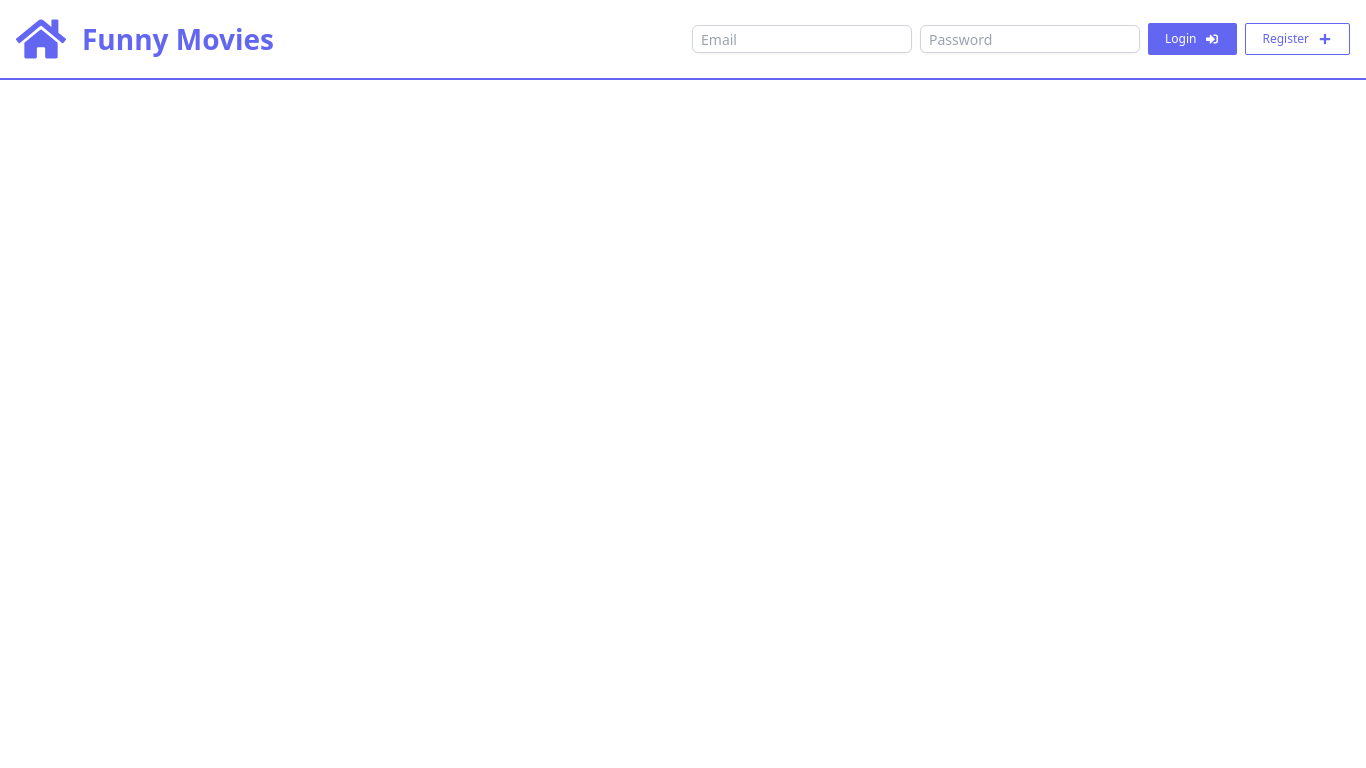
Test: Login › should open create account modal when register button is clicked
Click the button "Register" at (1298, 39), box x1=1246 y1=23 x2=1350 y2=55
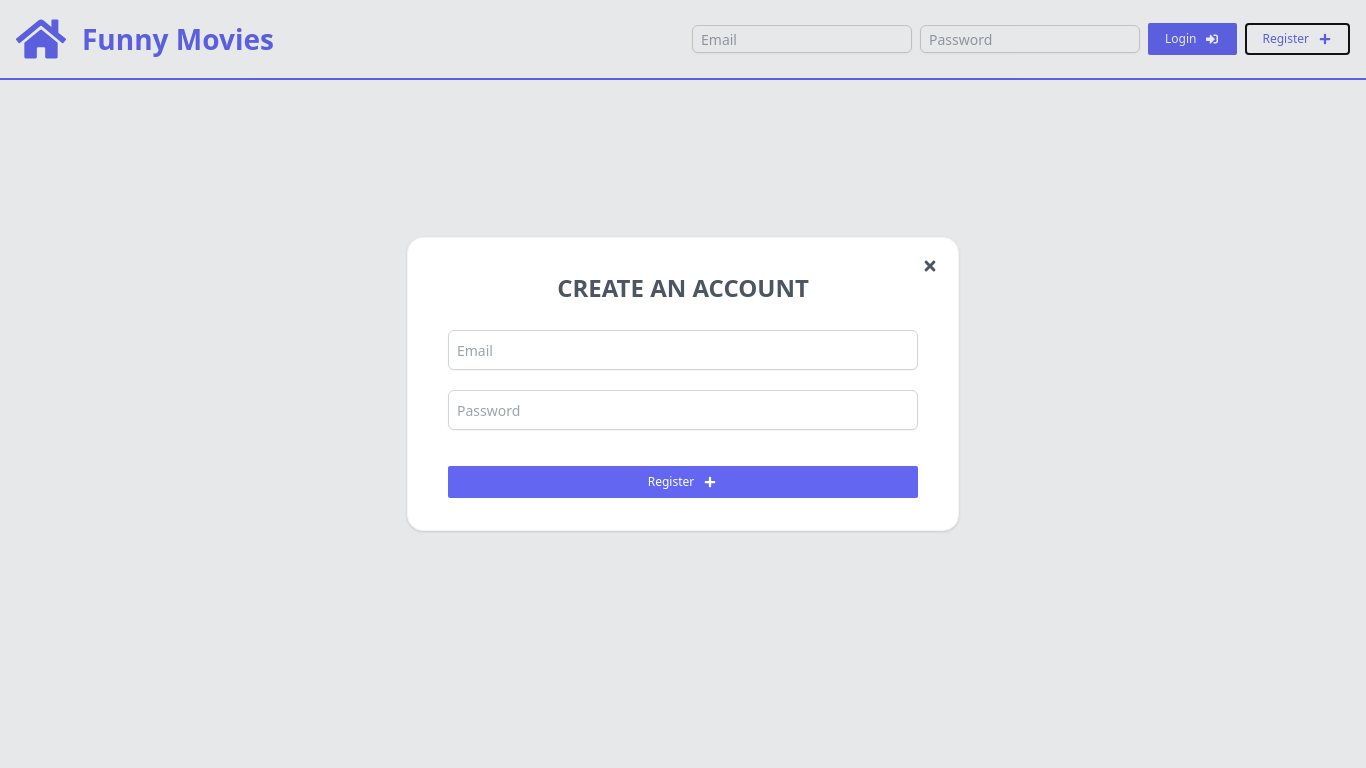
expect the element with test id "create-account-modal" is shown: met, box x1=407 y1=237 x2=959 y2=531
